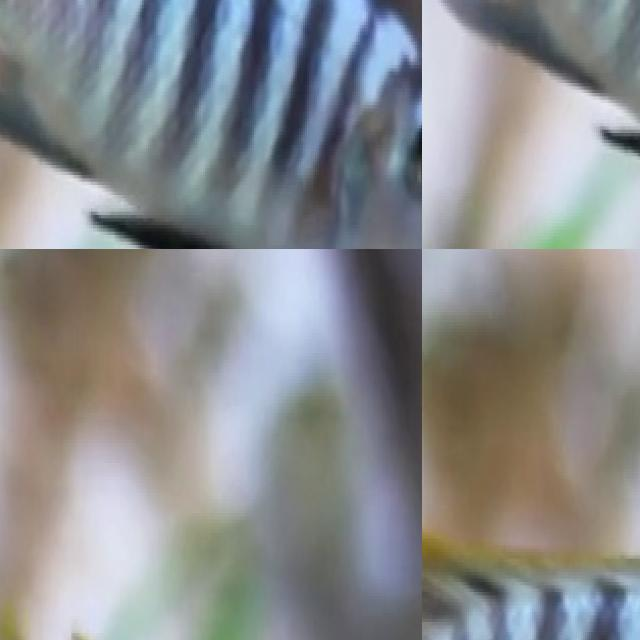fish: (0, 0, 422, 249), (422, 0, 640, 249)
